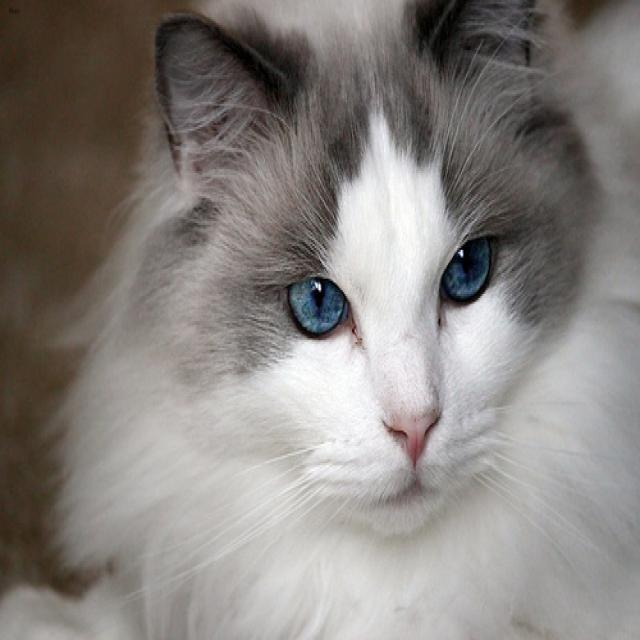Ragdoll: (153, 0, 564, 536)
